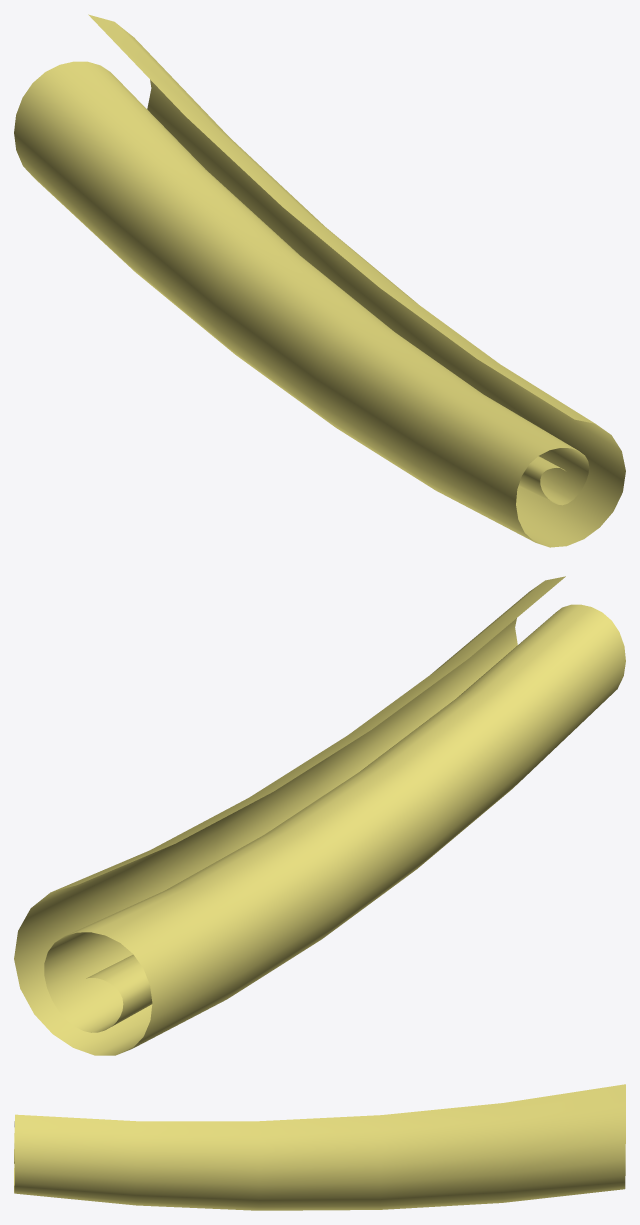
Rendered from Pergamino2.fbx.
3 views of the same model, one above another, from view 1: azimuth 30°, elevation 25°; view 2: azimuth 150°, elevation 25°; view 3: azimuth 270°, elevation 25° (orthographic). The views are drawn at different scales.
Parts seen in each view (by area): view 1: Plane; view 2: Plane; view 3: Plane.
Boxes of the visible parts, box(x1,y1,x2,y2) form: Plane: box(14, 14, 625, 547); Plane: box(14, 576, 625, 1055); Plane: box(14, 1084, 625, 1210).
Size of the model in its own units: 9.81 by 13.65 by 60.18.
